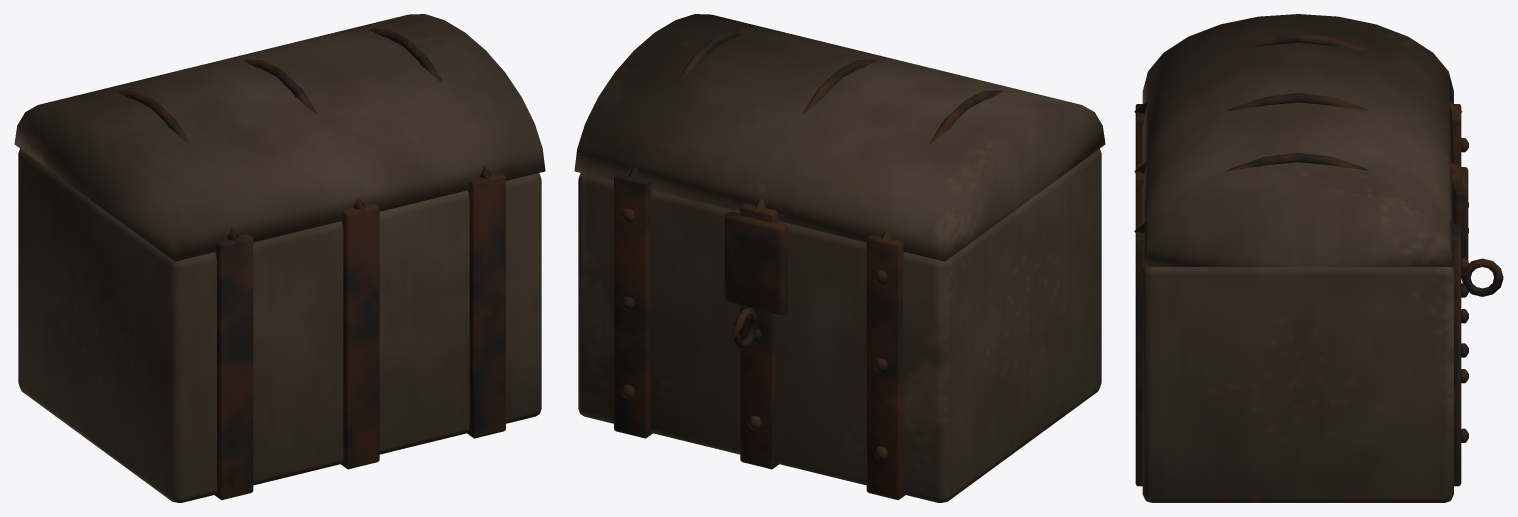
The model's file is cellar_coffer.obj.
3 views of the same model, side by side, from view 1: azimuth 30°, elevation 25°; view 2: azimuth 150°, elevation 25°; view 3: azimuth 270°, elevation 25° (orthographic). The views are drawn at different scales.
Parts seen in each view (by area): view 1: part0, part1; view 2: part0, part1; view 3: part0, part1.
Part boxes in pixels (x1=…): part0: x1=14, y1=14, x2=545, y2=502; part1: x1=117, y1=28, x2=505, y2=500; part0: x1=574, y1=14, x2=1105, y2=502; part1: x1=614, y1=28, x2=1002, y2=500; part0: x1=1142, y1=14, x2=1453, y2=502; part1: x1=1134, y1=33, x2=1503, y2=486.
Size of the model in its own units: 0.88 by 0.7636 by 0.7826.
